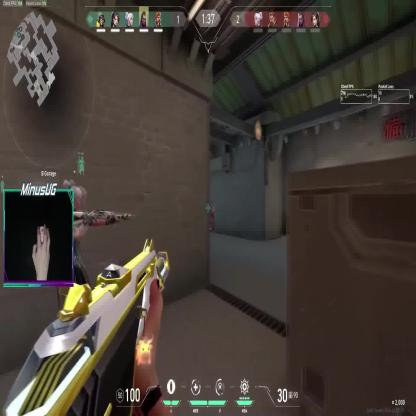enemy: (208, 200, 215, 231)
enemy_head: (210, 202, 214, 209)
